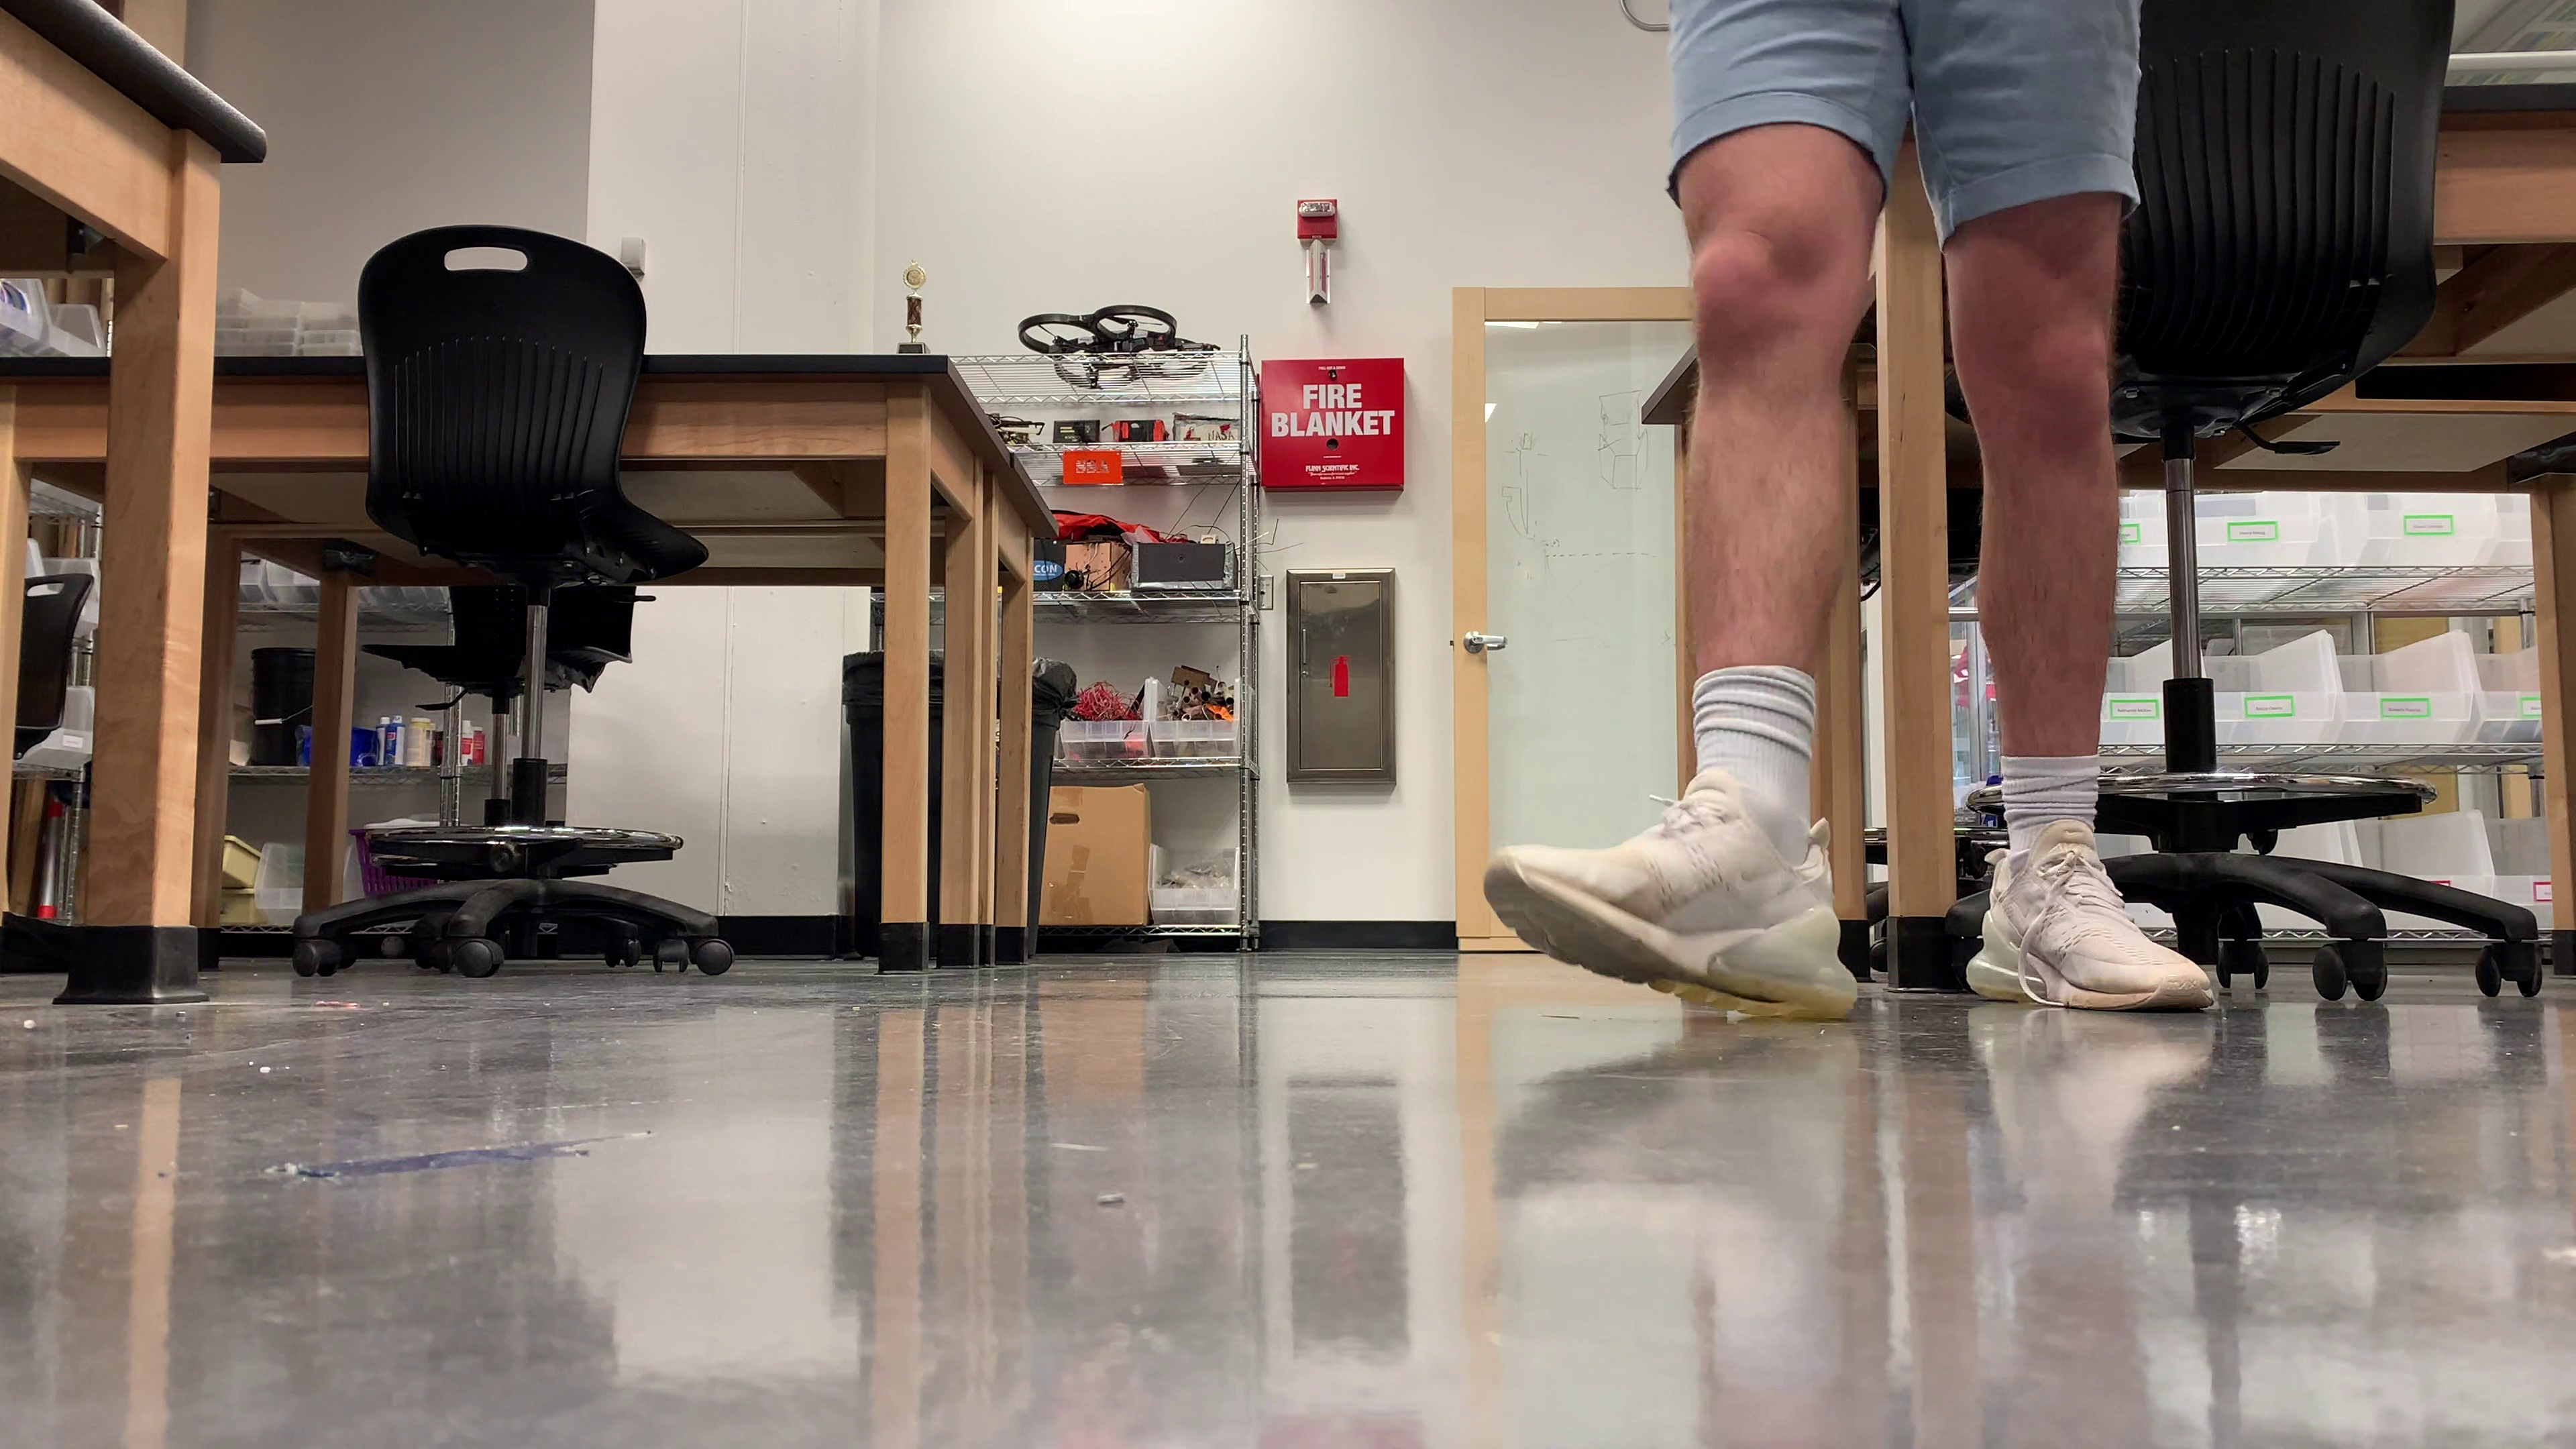shoe: (1483, 766, 1858, 1023), (1966, 824, 2212, 1012)
